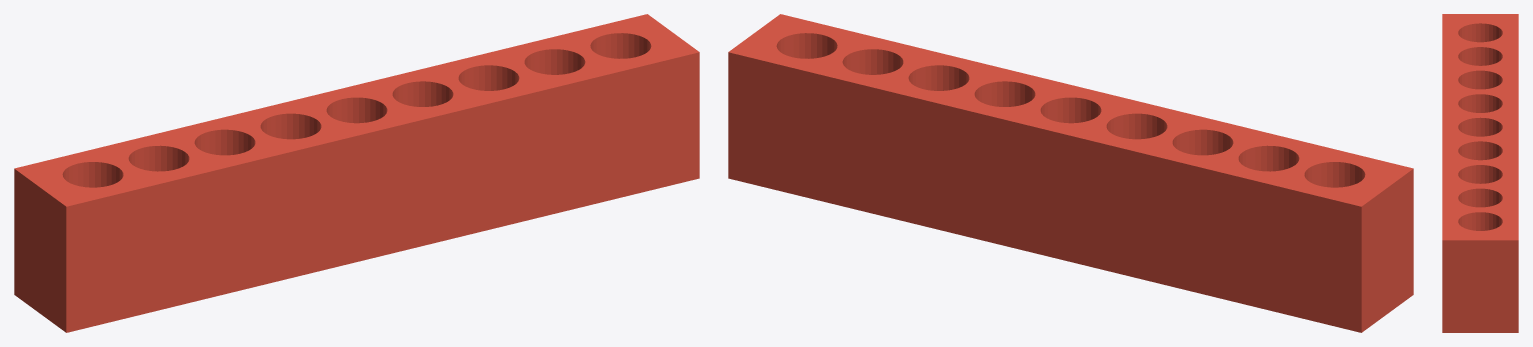
3 views of the same model, side by side, from view 1: azimuth 30°, elevation 25°; view 2: azimuth 150°, elevation 25°; view 3: azimuth 270°, elevation 25° (orthographic). The views are drawn at different scales.
Parts seen in each view (by area): view 1: 立方体.005; view 2: 立方体.005; view 3: 立方体.005.
Boxes of the visible parts, x1,y1,x2,y2 form: 立方体.005: [14, 14, 699, 332]; 立方体.005: [728, 14, 1413, 332]; 立方体.005: [1442, 14, 1518, 332].
Bounding box in the file's own units: 0.84 × 0.16 × 0.12.
